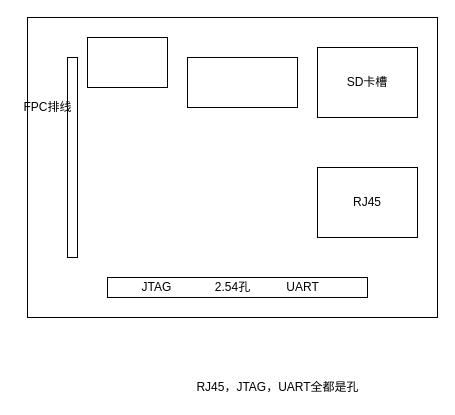
This 455x415 diagram has some shape labels left out. The box of each missing label's shape, as (x1, y1, x2, y2) in pixels:
dc-dc 2s到6sto3.3: (86, 36, 168, 88)
TXS02612RTWR: (186, 56, 298, 108)
